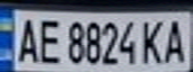2: (100, 18, 121, 66)
4: (118, 17, 142, 65)
8: (63, 17, 87, 65), (81, 17, 103, 65)
A: (160, 16, 193, 64), (12, 13, 42, 64)
E: (33, 15, 63, 65)
K: (139, 16, 169, 65)
